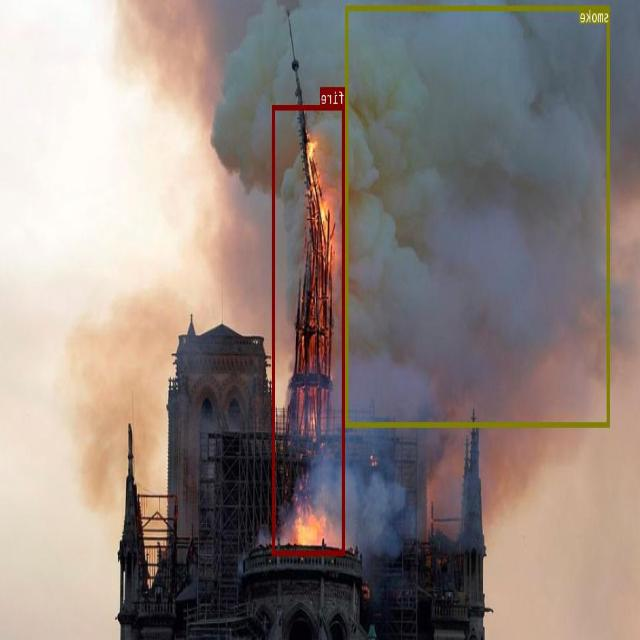fire: (273, 105, 345, 554)
smoke: (347, 5, 610, 426)
